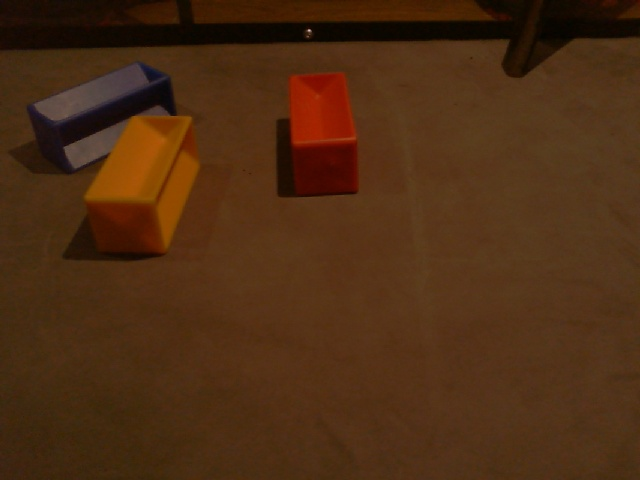BlueSample: (26, 59, 176, 174)
RedSample: (285, 71, 361, 197)
YellowSample: (84, 111, 198, 258)
